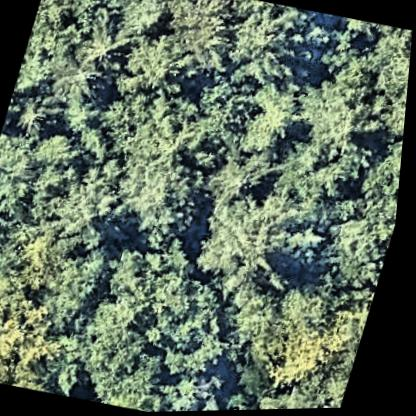tree-top: (192, 191, 325, 316), (73, 288, 194, 414), (258, 281, 371, 401), (148, 271, 258, 391), (93, 74, 215, 166), (105, 147, 216, 248), (288, 63, 392, 163), (97, 233, 205, 324), (0, 285, 86, 395), (0, 120, 85, 229), (260, 140, 359, 227), (12, 0, 89, 106), (30, 242, 117, 333), (182, 61, 271, 148), (321, 203, 401, 298), (152, 0, 247, 77), (47, 166, 127, 251), (199, 139, 289, 214), (227, 0, 309, 81), (233, 76, 307, 158), (351, 121, 407, 228), (113, 28, 188, 104), (346, 75, 410, 158), (45, 318, 111, 398), (43, 50, 111, 117), (358, 25, 414, 103), (240, 372, 348, 411), (52, 0, 133, 50), (159, 364, 240, 413), (3, 89, 66, 146), (65, 21, 131, 74), (115, 0, 176, 44)
